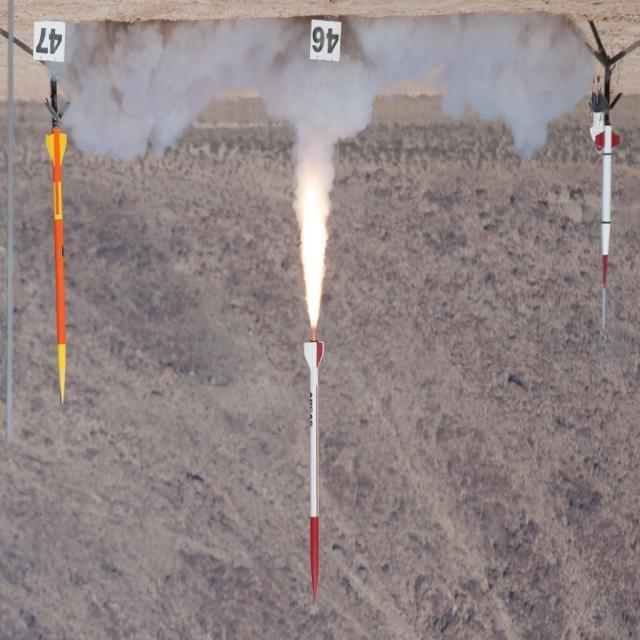Missile: (44, 135, 74, 410), (303, 339, 325, 607), (597, 122, 619, 281)
